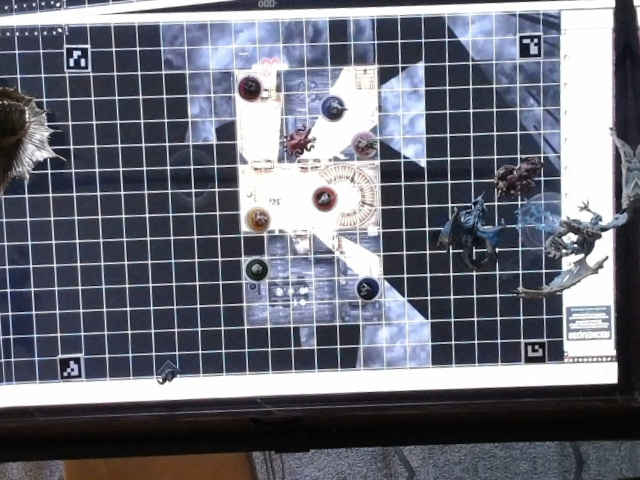blue: (352, 273, 384, 301)
green: (243, 255, 271, 282)
orange: (306, 181, 342, 215)
pink: (348, 128, 381, 159)
red: (234, 72, 265, 104)
violet: (316, 92, 349, 121)
yellow: (241, 202, 274, 236)
